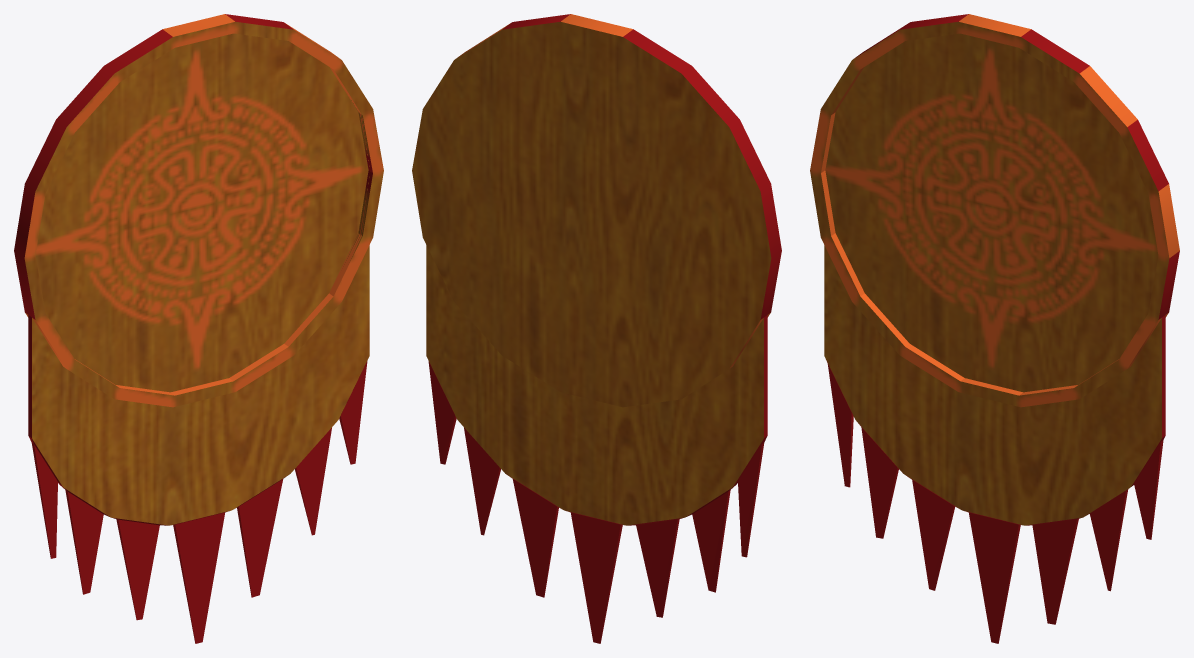
Rendered from Sheild5.FBX.
3 renders of one model, left to right at view 1: azimuth 30°, elevation 25°; view 2: azimuth 150°, elevation 25°; view 3: azimuth 330°, elevation 25°, orthographic.
Parts seen in each view (by area): view 1: Sheild005; view 2: Sheild005; view 3: Sheild005.
Part boxes in pixels (<box>): Sheild005: <box>14,14,383,643</box>; Sheild005: <box>412,14,781,643</box>; Sheild005: <box>810,14,1179,643</box>.
Size of the model in its own units: 17.81 by 29.24 by 0.9078.
